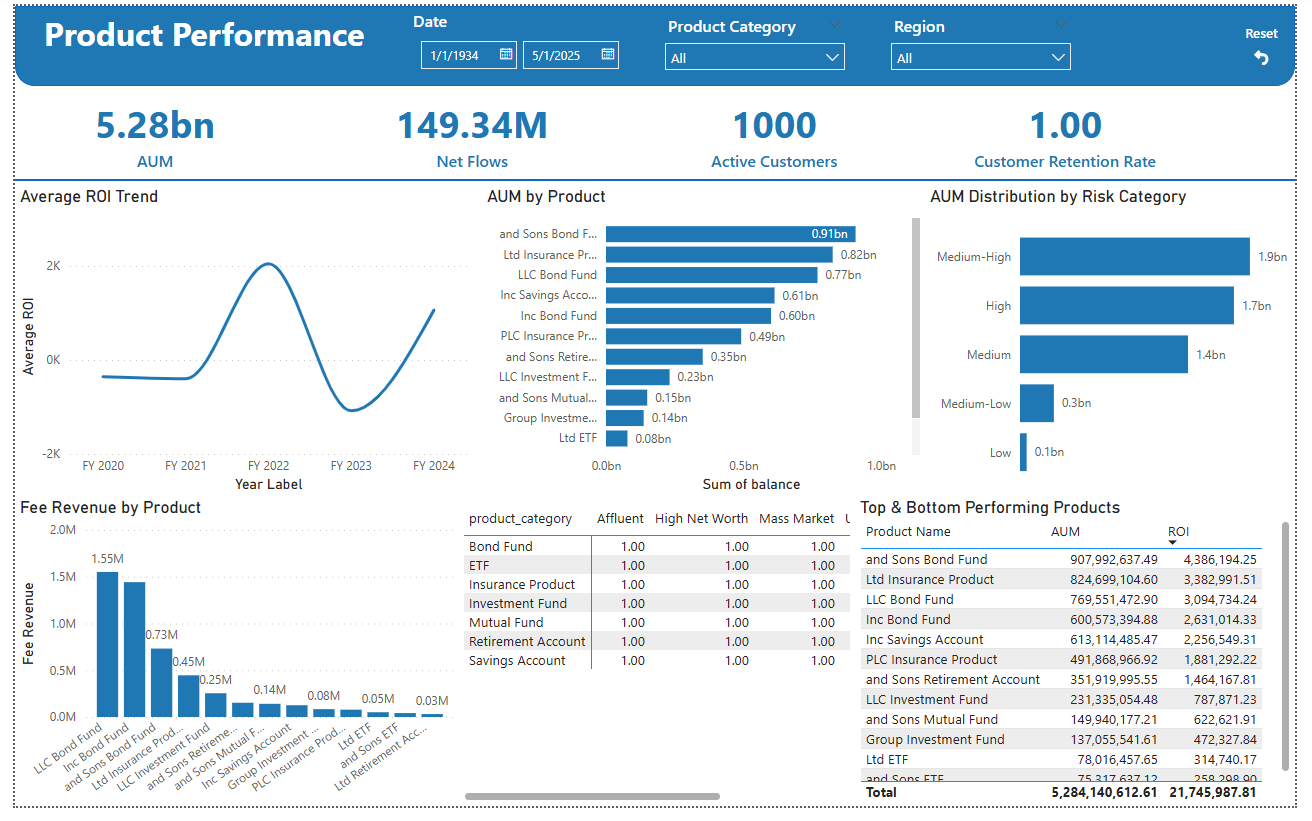

The dashboard page shown, as its layout file describes it:
{"tool":"powerbi","page":{"name":"Product Performance ","canvas":[1280,800],"ordinal":1},"visuals":[{"type":"pivotTable","title":"Performance by Product Category","fields":{"Rows":["products.product_category"],"Values":["account_balances.Net Flows","account_balances.Total AUM","account_balances.Fee Revenue"]},"box":[91.8,227.6,375.6,269.8],"z":0},{"type":"lineChart","title":"Average ROI Trend","fields":{"Category":["Date.Year Label"],"Y":["Avg(account_balances.investment_returns_mtd)"]},"box":[0,179.9,457.1,311],"z":1000},{"type":"tableEx","title":"Top & Bottom Performing Products","fields":{"Values":["products.product_name","Sum(account_balances.balance)","Sum(account_balances.investment_returns_mtd)"]},"box":[840.3,490.9,439.3,309.1],"z":2000},{"type":"columnChart","title":"Fee Revenue by Product","fields":{"Category":["products.product_name"],"Y":["account_balances.Fee Revenue"]},"box":[0,490.9,444,309.1],"z":3000},{"type":"clusteredBarChart","title":"AUM Distribution by Risk Category","fields":{"Category":["products.risk_level"],"Y":["account_balances.Total AUM"]},"box":[909.6,179.9,370,311],"z":4000},{"type":"card","fields":{"Values":["account_balances.Total AUM"]},"box":[0,87.1,280.1,80.6],"z":5000},{"type":"card","fields":{"Values":["customers.Active Customers"]},"box":[619.2,87.1,280.1,80.6],"z":6000},{"type":"card","fields":{"Values":["account_balances.Net Flows"]},"box":[316.6,87.1,280.1,80.6],"z":7000},{"type":"card","fields":{"Values":["customers.Customer Retention Rate"]},"box":[909.6,87.1,280.1,80.6],"z":8000},{"type":"shape","box":[0,0,1280,80],"z":9000},{"type":"textbox","box":[24,0,368,72],"z":10000},{"type":"slicer","title":"Date","fields":{"Values":["Date.Date"]},"box":[392.5,3.7,240.7,68.4],"z":11000},{"type":"slicer","fields":{"Values":["customers.customer_segment"]},"box":[639.8,3.7,200.5,68.4],"z":12000},{"type":"slicer","fields":{"Values":["customers.address_state"]},"box":[865.6,3.7,200.5,68.4],"z":13000},{"type":"actionButton","title":"Reset","box":[1227.2,17.8,38.4,45],"z":14000},{"type":"shape","box":[0,167.7,1279.6,12.2],"z":15000},{"type":"clusteredBarChart","title":"AUM by Product","fields":{"Category":["products.product_name"],"Y":["Sum(account_balances.balance)"]},"box":[467.4,179.9,442.2,311],"z":16000},{"type":"pivotTable","fields":{"Columns":["customers.customer_segment"],"Values":["customers.Customer Retention Rate"],"Rows":["products.product_category"]},"box":[444,497.4,396.3,302.6],"z":17000}]}

Visuals, with their boxes in screenshot pixels (x1, y1, x2, y2), scaled from the page's 1280x800 canvas onto the 1312x821 screenshot:
"Performance by Product Category" pivotTable: select_region(94, 234, 479, 510)
"Average ROI Trend" lineChart: select_region(0, 185, 469, 504)
"Top & Bottom Performing Products" tableEx: select_region(861, 504, 1311, 820)
"Fee Revenue by Product" columnChart: select_region(0, 504, 455, 820)
"AUM Distribution by Risk Category" clusteredBarChart: select_region(932, 185, 1311, 504)
card - account_balances.Total AUM: select_region(0, 89, 287, 172)
card - customers.Active Customers: select_region(635, 89, 922, 172)
card - account_balances.Net Flows: select_region(325, 89, 612, 172)
card - customers.Customer Retention Rate: select_region(932, 89, 1219, 172)
shape: select_region(0, 0, 1311, 82)
textbox: select_region(25, 0, 402, 74)
"Date" slicer: select_region(402, 4, 649, 74)
slicer - customers.customer_segment: select_region(656, 4, 861, 74)
slicer - customers.address_state: select_region(887, 4, 1093, 74)
"Reset" actionButton: select_region(1258, 18, 1297, 64)
shape: select_region(0, 172, 1311, 185)
"AUM by Product" clusteredBarChart: select_region(479, 185, 932, 504)
pivotTable - customers.customer_segment x customers.Customer Retention Rate: select_region(455, 510, 861, 820)
